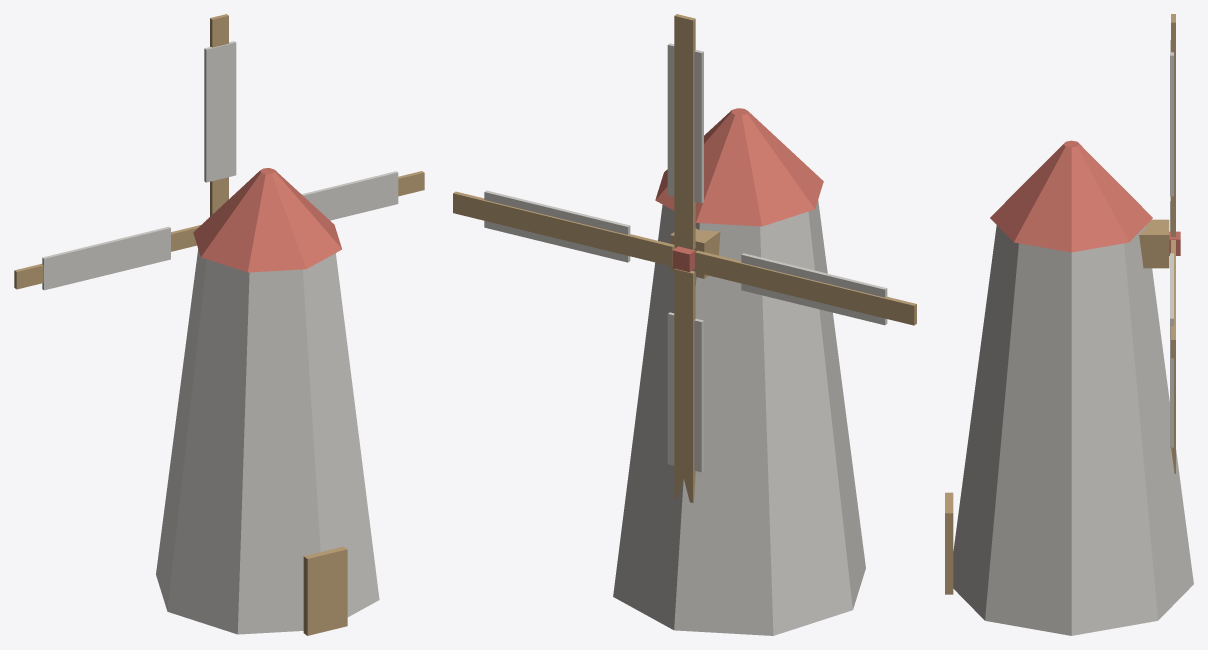
File: windmill.glb
3 renders of one model, left to right at view 1: azimuth 30°, elevation 25°; view 2: azimuth 150°, elevation 25°; view 3: azimuth 270°, elevation 25°, orthographic. The views are drawn at different scales.
Visible parts, largest first — view 1: Windmill, Blades; view 2: Windmill, Blades; view 3: Windmill, Blades.
Part boxes in pixels (x1,y1,x2,y2): Windmill: (156, 168, 379, 635); Blades: (14, 14, 424, 290); Windmill: (613, 108, 865, 635); Blades: (453, 14, 916, 502); Windmill: (945, 140, 1193, 635); Blades: (1169, 14, 1180, 473).
Bounding box in the file's own units: 12.2 × 15.3 × 6.1.
